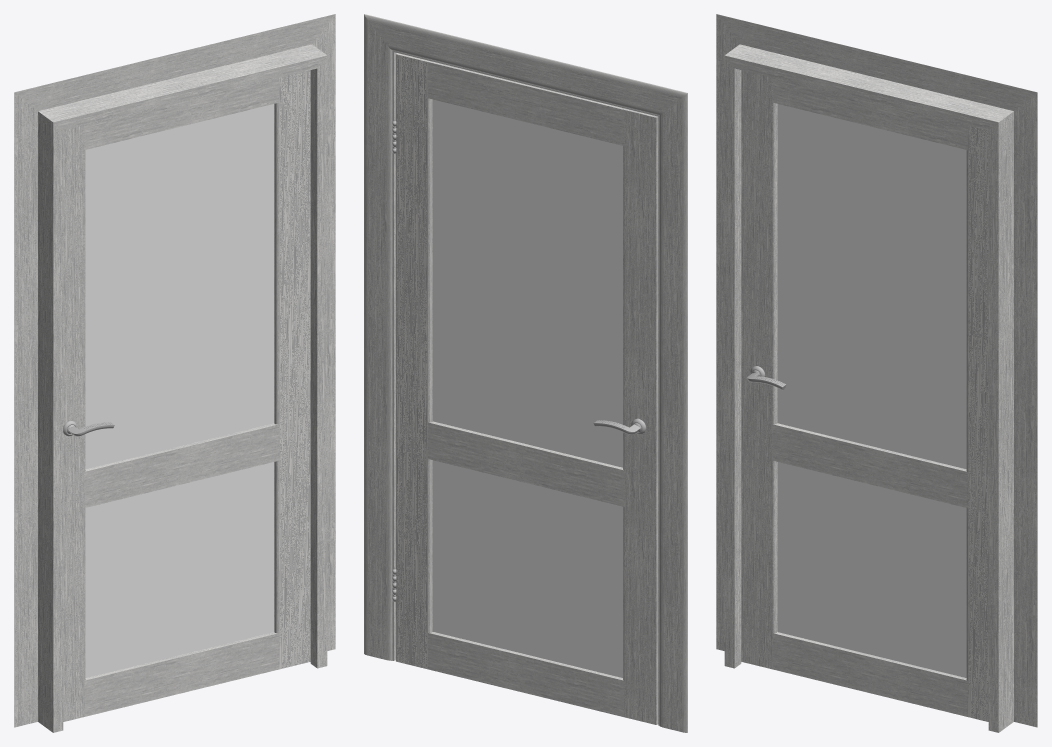
Rendered from 2_siteDraco.gltf.
3 renders of one model, left to right at view 1: azimuth 30°, elevation 25°; view 2: azimuth 150°, elevation 25°; view 3: azimuth 330°, elevation 25°, orthographic.
Visible parts, largest first — view 1: 402site; view 2: 402site; view 3: 402site.
Boxes of the visible parts, x1,y1,x2,y2 form: 402site: (14,14,335,732); 402site: (364,14,687,732); 402site: (716,14,1037,732).
Size of the model in its own units: 1.11 by 2.11 by 0.1635.
3 materials, 1 textured.
